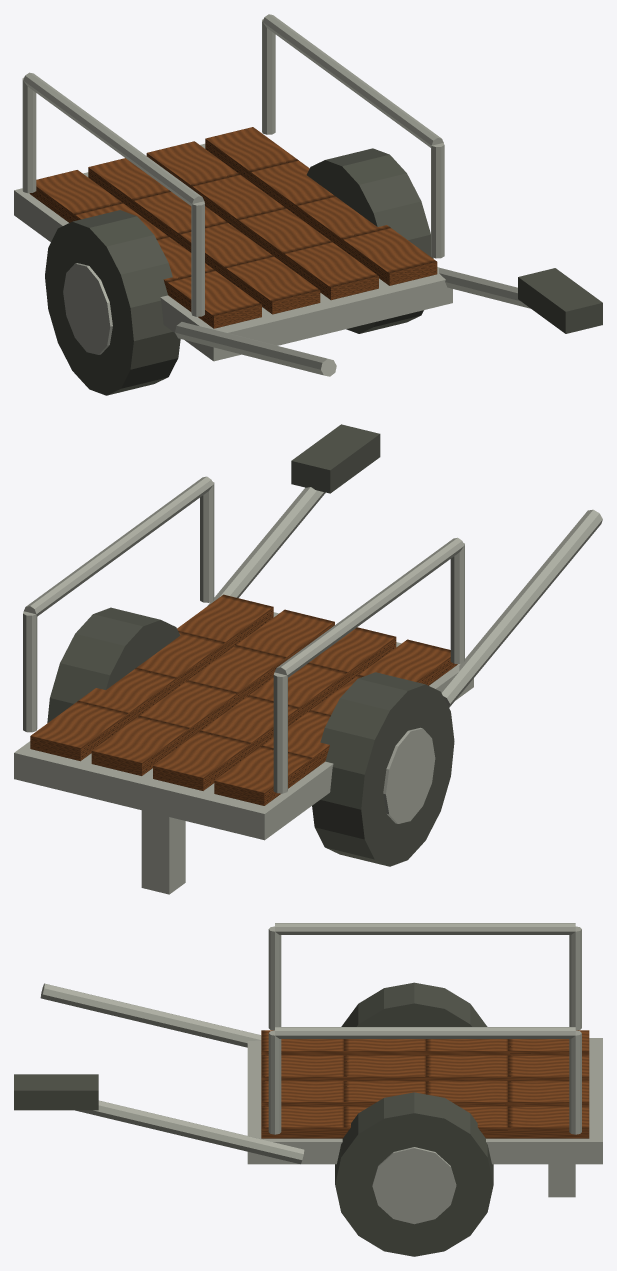
File: reclamation-yard-two-wheel-salvage-handcart__222.glb
3 renders of one model, top to bottom at view 1: azimuth 30°, elevation 25°; view 2: azimuth 150°, elevation 25°; view 3: azimuth 270°, elevation 25°, orthographic. The views are drawn at different scales.
Visible parts, largest first — view 1: wood, metal, dark; view 2: wood, metal, dark; view 3: metal, wood, dark.
Part boxes in pixels (x1,y1,x2,y2): wood: [29, 127, 437, 328]; metal: [14, 14, 530, 376]; dark: [45, 148, 602, 395]; wood: [30, 594, 457, 805]; metal: [14, 476, 602, 894]; dark: [47, 424, 454, 866]; metal: [40, 923, 602, 1224]; wood: [261, 1030, 589, 1138]; dark: [14, 982, 493, 1256].
Bounding box in the file's own units: 1.15 × 0.873 × 2.15.
3 materials, 1 textured.
